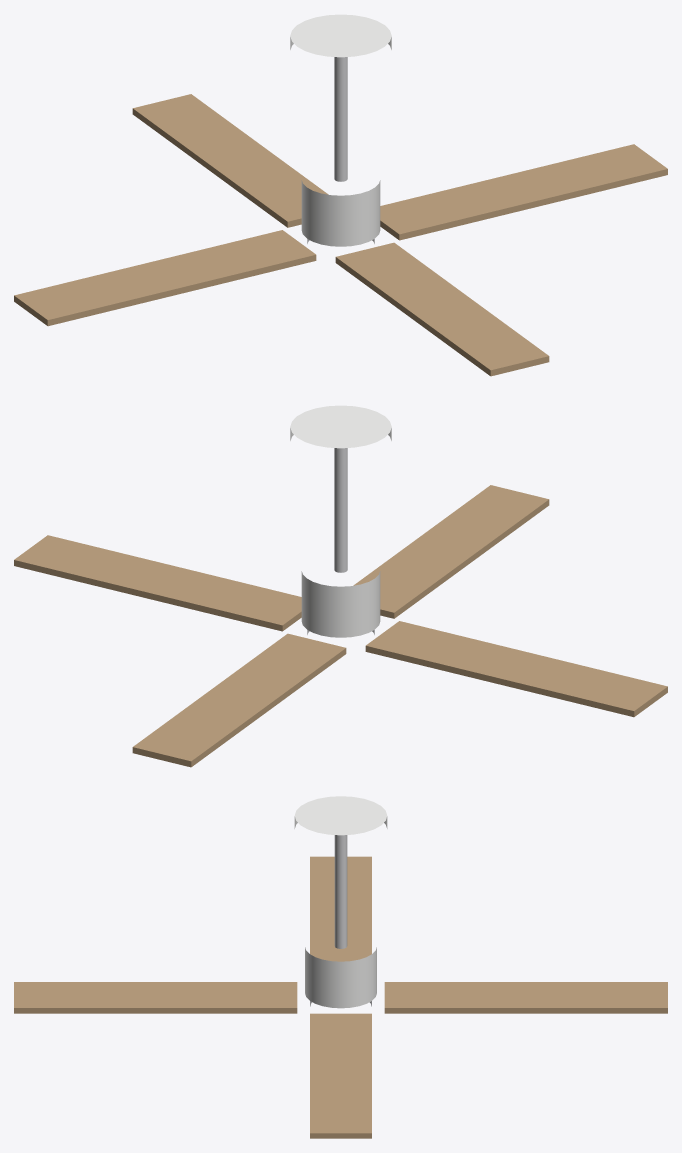
The model's file is fan.glb.
3 renders of one model, top to bottom at view 1: azimuth 30°, elevation 25°; view 2: azimuth 150°, elevation 25°; view 3: azimuth 270°, elevation 25°, orthographic. The views are drawn at different scales.
Parts seen in each view (by area): view 1: Blade3Mesh, Blade1Mesh, Blade4Mesh, Blade2Mesh, Motor, Mount, Rod; view 2: Blade3Mesh, Blade1Mesh, Blade2Mesh, Blade4Mesh, Motor, Mount, Rod; view 3: Blade2Mesh, Blade4Mesh, Blade1Mesh, Blade3Mesh, Motor, Mount, Rod.
Boxes of the visible parts, x1,y1,x2,y2 form: Blade3Mesh: (14, 230, 316, 326); Blade1Mesh: (380, 144, 667, 240); Blade4Mesh: (335, 242, 549, 376); Blade2Mesh: (132, 94, 328, 227); Motor: (301, 180, 380, 246); Mount: (290, 14, 391, 57); Rod: (334, 57, 347, 181); Blade3Mesh: (365, 621, 667, 717); Blade1Mesh: (14, 535, 301, 631); Blade2Mesh: (132, 633, 346, 767); Blade4Mesh: (353, 485, 549, 618); Motor: (301, 571, 380, 637); Mount: (290, 405, 391, 448); Rod: (334, 448, 347, 572); Blade2Mesh: (384, 982, 667, 1013); Blade4Mesh: (14, 982, 297, 1013); Blade1Mesh: (310, 1013, 371, 1138); Blade3Mesh: (310, 856, 371, 961); Motor: (305, 947, 376, 1008); Mount: (294, 796, 387, 835); Rod: (334, 835, 347, 948).
Bounding box in the file's own units: 1.27 × 0.41 × 1.27.
